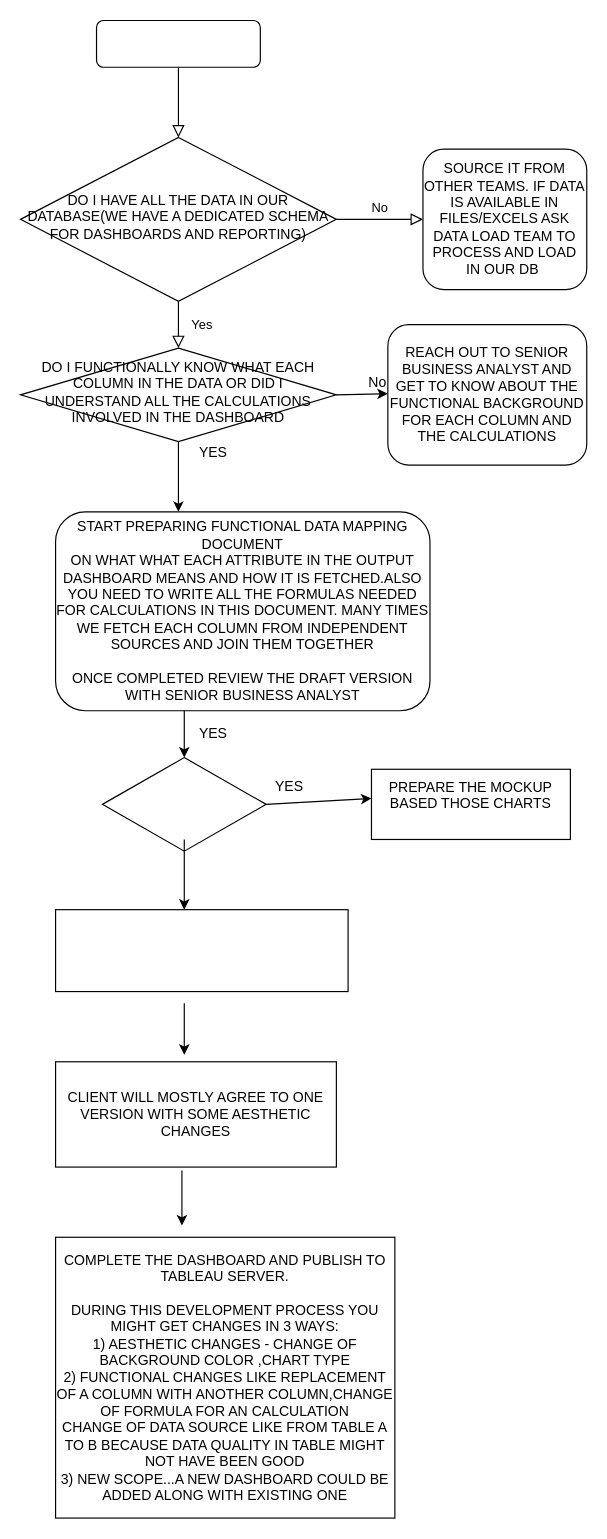
Image size: 607x1539. Some labels were removed from this diagram. The box of each missing label's shape, as (x1, y1, x2, y2) in pixels:
BUSINESS REQUIREMENTS: (95, 19, 260, 67)
DID THE CLIENT SPECIFY ANY CHARTS: (101, 756, 266, 851)
PREPARE MULTIPLE VERSIONS OF MOCKUP'S WITH VARIOUS CHARTS: (54, 909, 348, 992)
